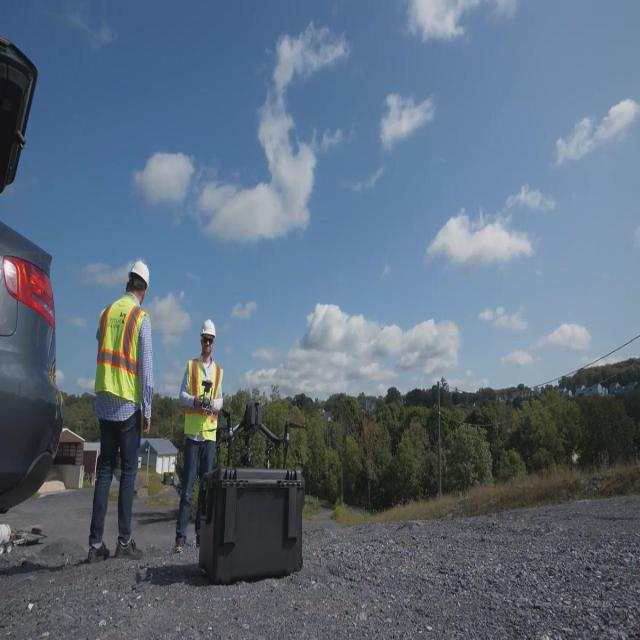Reflective-Jacket: (87, 295, 161, 427), (175, 355, 230, 453)
Safety-Helmet: (122, 249, 156, 299), (194, 309, 222, 354)
